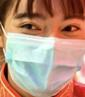with_mask: (1, 1, 85, 97)
